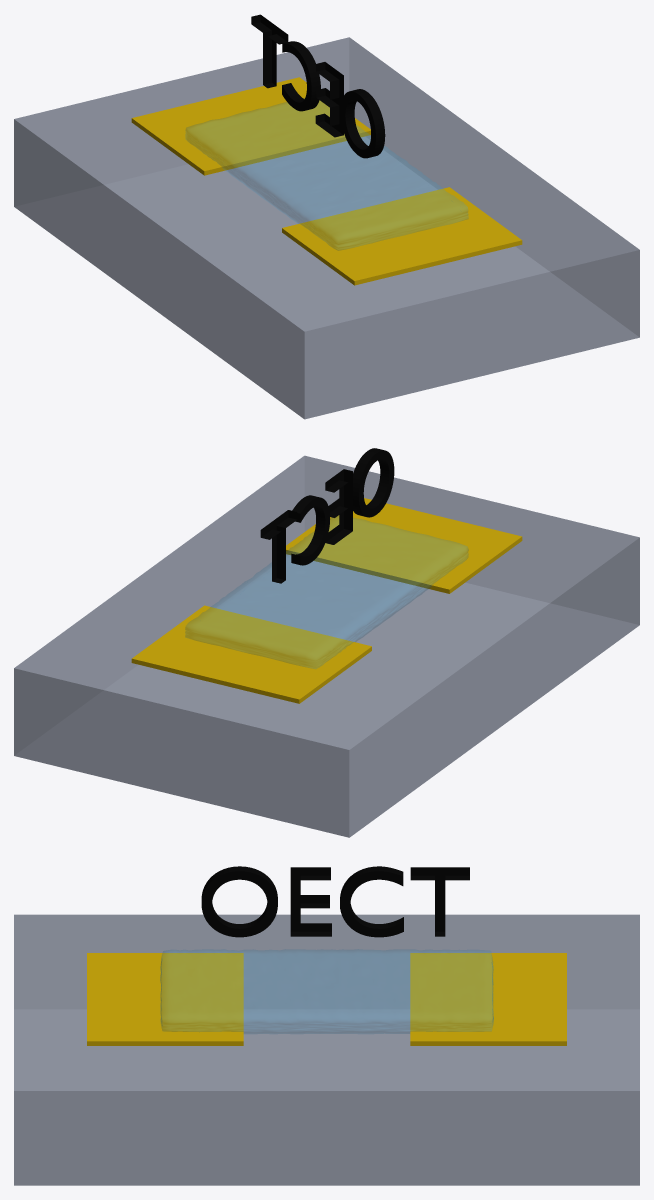
File: OECT_gltf.gltf
3 renders of one model, top to bottom at view 1: azimuth 30°, elevation 25°; view 2: azimuth 150°, elevation 25°; view 3: azimuth 270°, elevation 25°, orthographic. The views are drawn at different scales.
Parts seen in each view (by area): view 1: OECT.001, OECT_text.001; view 2: OECT.001, OECT_text.001; view 3: OECT.001, OECT_text.001.
Boxes of the visible parts, x1,y1,x2,y2 form: OECT.001: (14, 37, 639, 419); OECT_text.001: (251, 14, 385, 158); OECT.001: (14, 455, 639, 837); OECT_text.001: (260, 448, 394, 583); OECT.001: (14, 914, 639, 1185); OECT_text.001: (201, 866, 469, 937).
Bounding box in the file's own units: 4 × 2.39 × 6.
